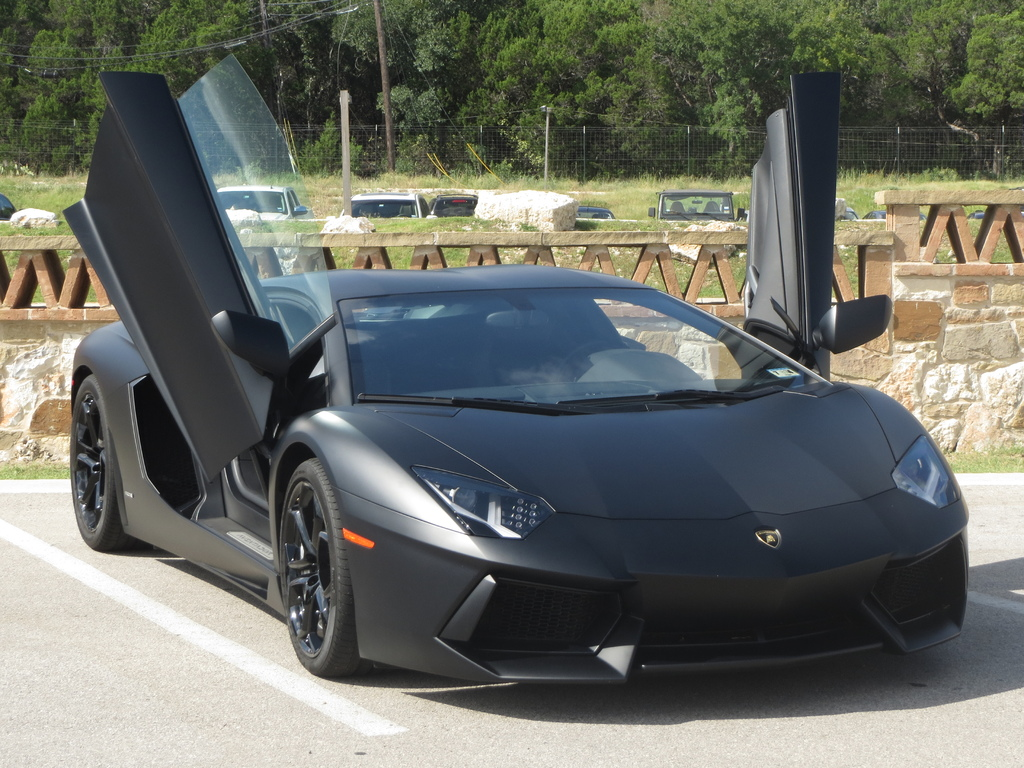Tree: (0, 0, 1024, 178)
